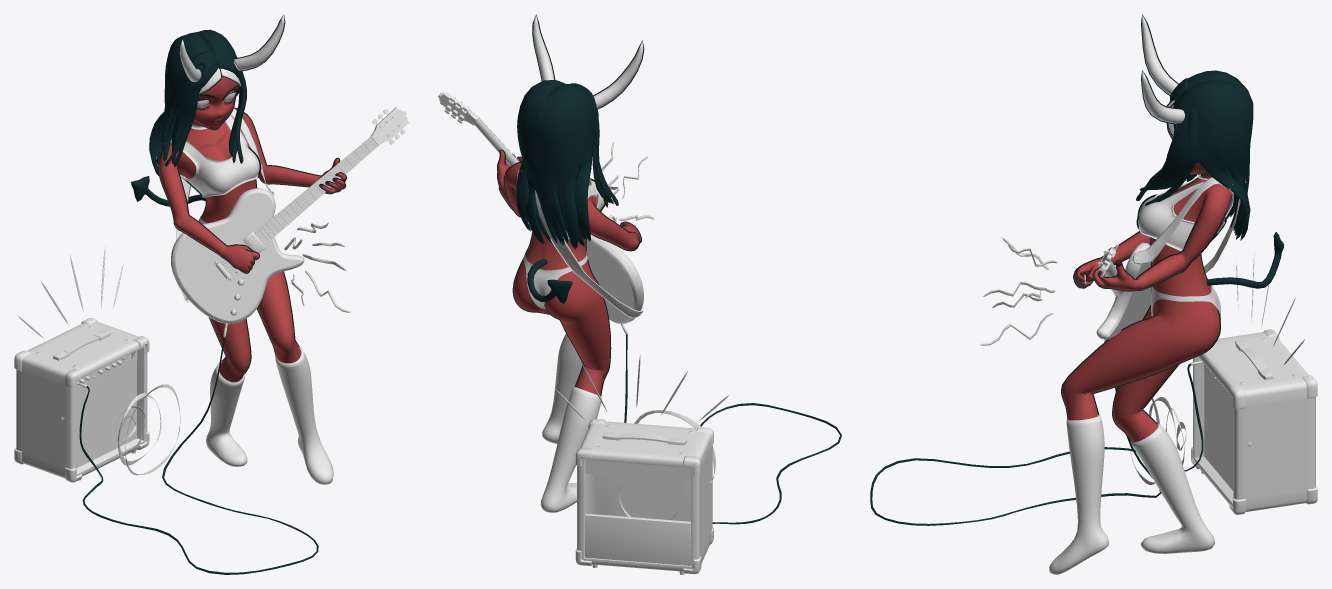
File: demon_girl_guitar.fbx
3 renders of one model, left to right at view 1: azimuth 30°, elevation 25°; view 2: azimuth 150°, elevation 25°; view 3: azimuth 270°, elevation 25°, orthographic. The views are drawn at different scales.
Visible parts, largest first — view 1: AMP, body_1, TELEP_col, hair_01, body_1.001, top_1, Catenary, horns.001, Plane.002, Plane.003, tail, Plane.001; view 2: AMP, hair_01, body_1, body_1.001, TELEP_col, horns.001, Plane.001, Catenary, Plane.002, tail, undies; view 3: AMP, body_1, hair_01, body_1.001, TELEP_col, top_1, horns.001, Catenary, Plane.001, Plane.002, tail, undies (+1 smaller).
Part boxes in pixels (bbox=[...]): AMP: bbox=[14, 318, 149, 482]; body_1: bbox=[158, 76, 346, 382]; TELEP_col: bbox=[170, 107, 409, 324]; hair_01: bbox=[149, 29, 246, 175]; body_1.001: bbox=[206, 347, 333, 484]; top_1: bbox=[164, 114, 261, 197]; Catenary: bbox=[79, 338, 318, 574]; horns.001: bbox=[179, 14, 285, 82]; Plane.002: bbox=[17, 222, 350, 338]; Plane.003: bbox=[116, 384, 180, 475]; tail: bbox=[131, 176, 205, 206]; Plane.001: bbox=[176, 108, 274, 302]; AMP: bbox=[575, 419, 713, 574]; hair_01: bbox=[516, 80, 618, 249]; body_1: bbox=[497, 149, 641, 396]; body_1.001: bbox=[540, 334, 601, 512]; TELEP_col: bbox=[438, 91, 643, 323]; horns.001: bbox=[532, 14, 644, 109]; Plane.001: bbox=[521, 170, 643, 318]; Catenary: bbox=[624, 334, 841, 524]; Plane.002: bbox=[554, 142, 729, 420]; tail: bbox=[527, 259, 572, 303]; undies: bbox=[523, 247, 587, 309]; AMP: bbox=[1191, 329, 1317, 514]; body_1: bbox=[1061, 102, 1231, 442]; hair_01: bbox=[1136, 70, 1253, 240]; body_1.001: bbox=[1049, 415, 1215, 574]; TELEP_col: bbox=[1096, 242, 1150, 342]; top_1: bbox=[1136, 177, 1235, 251]; horns.001: bbox=[1141, 14, 1184, 124]; Catenary: bbox=[870, 363, 1203, 525]; Plane.001: bbox=[1132, 177, 1240, 272]; Plane.002: bbox=[980, 238, 1304, 365]; tail: bbox=[1206, 232, 1284, 288]; undies: bbox=[1151, 278, 1220, 320].
Size of the model in its own units: 131 by 167 by 134.
